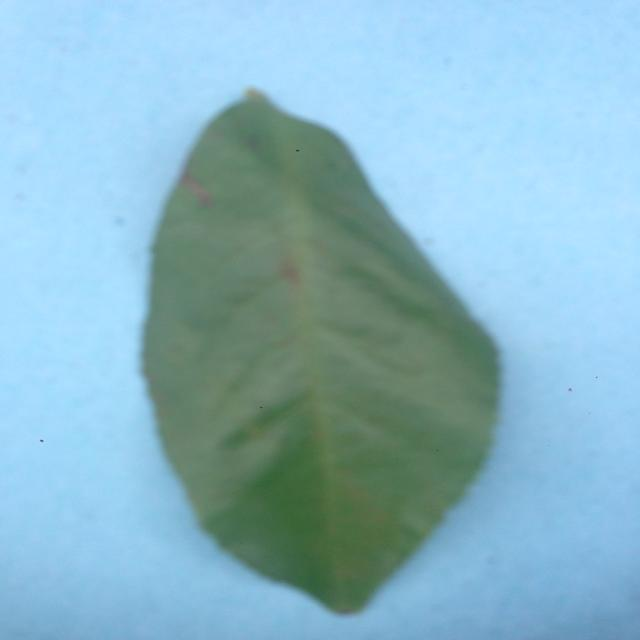Healthy: (103, 47, 539, 631)
